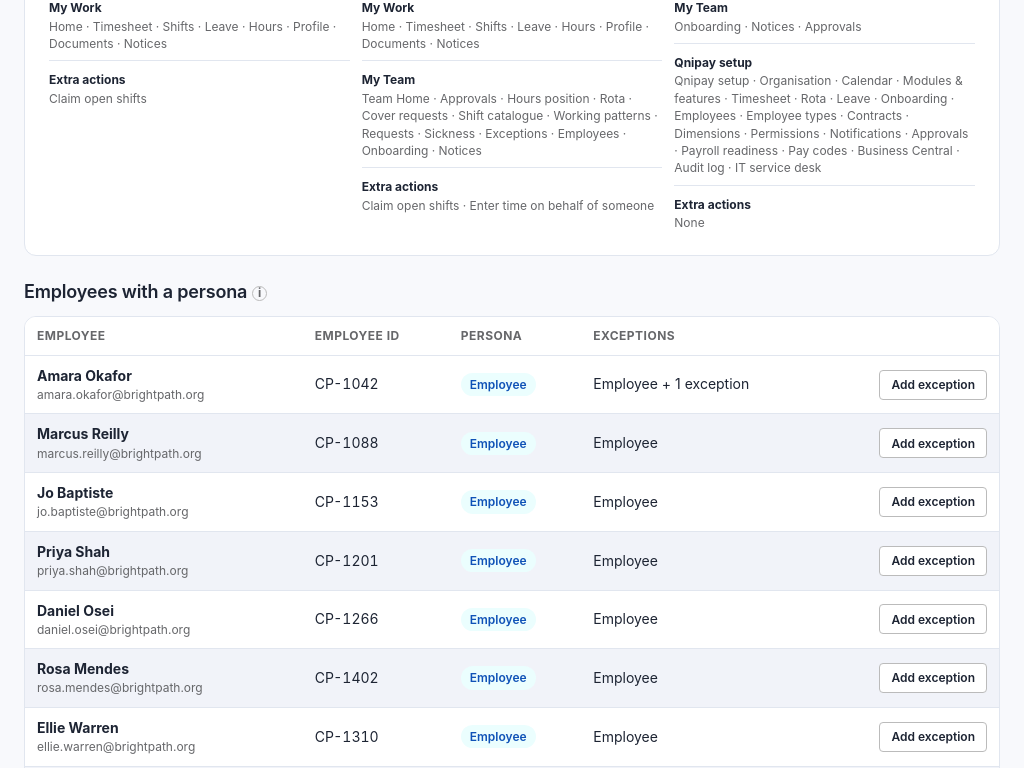
Test: a failed exception removal shows the refusal and leaves the account unchanged
(page scrolled)
Click the button "Add exception" in the row of "Amara Okafor". click: point(933, 385)
box: [879, 370, 987, 400]
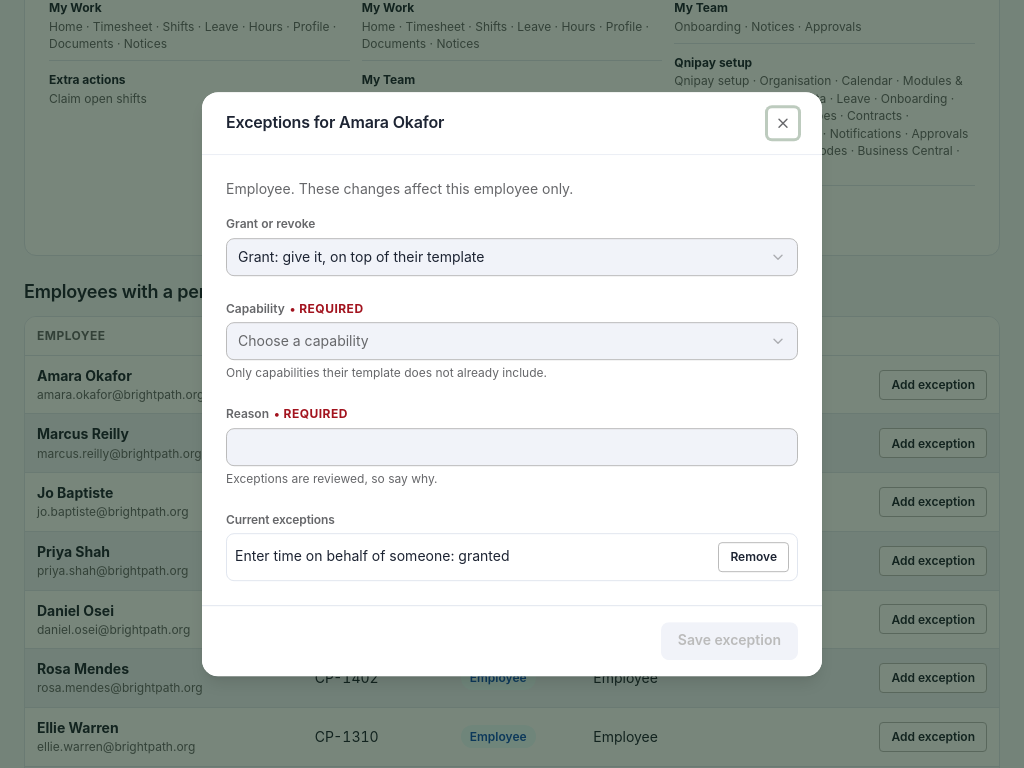
Click the button "Remove". click: point(754, 557)
box: [718, 542, 789, 572]
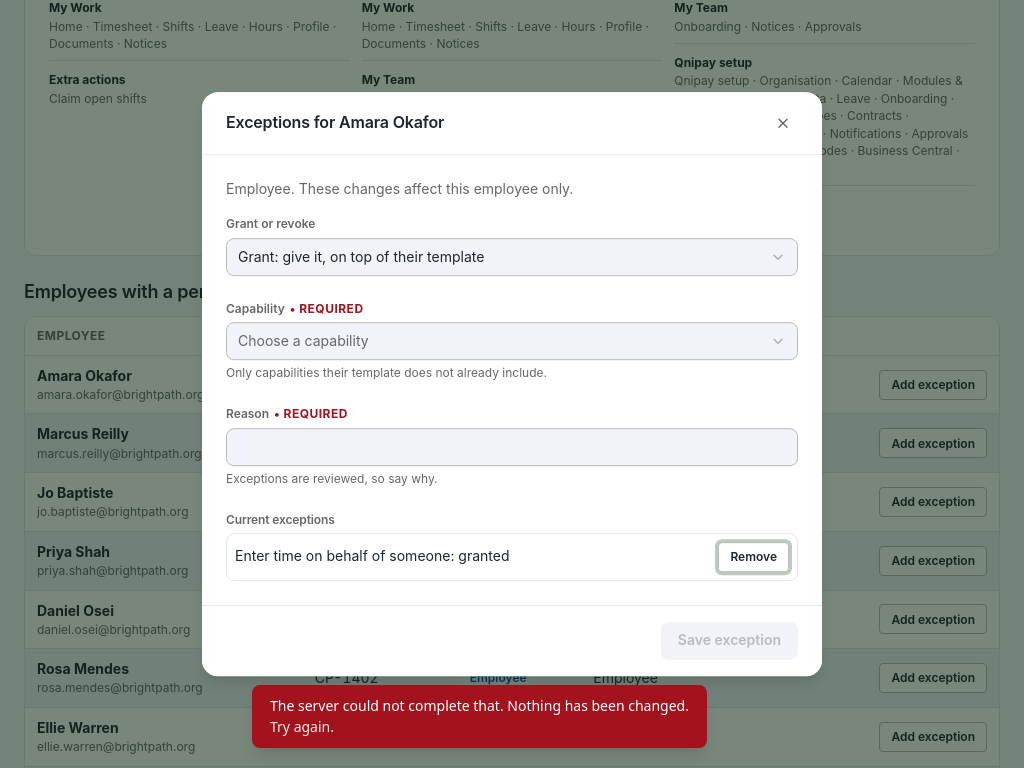
Now the message with test id "toast-error" shows "Nothing has been changed", box [270, 696, 689, 715]
